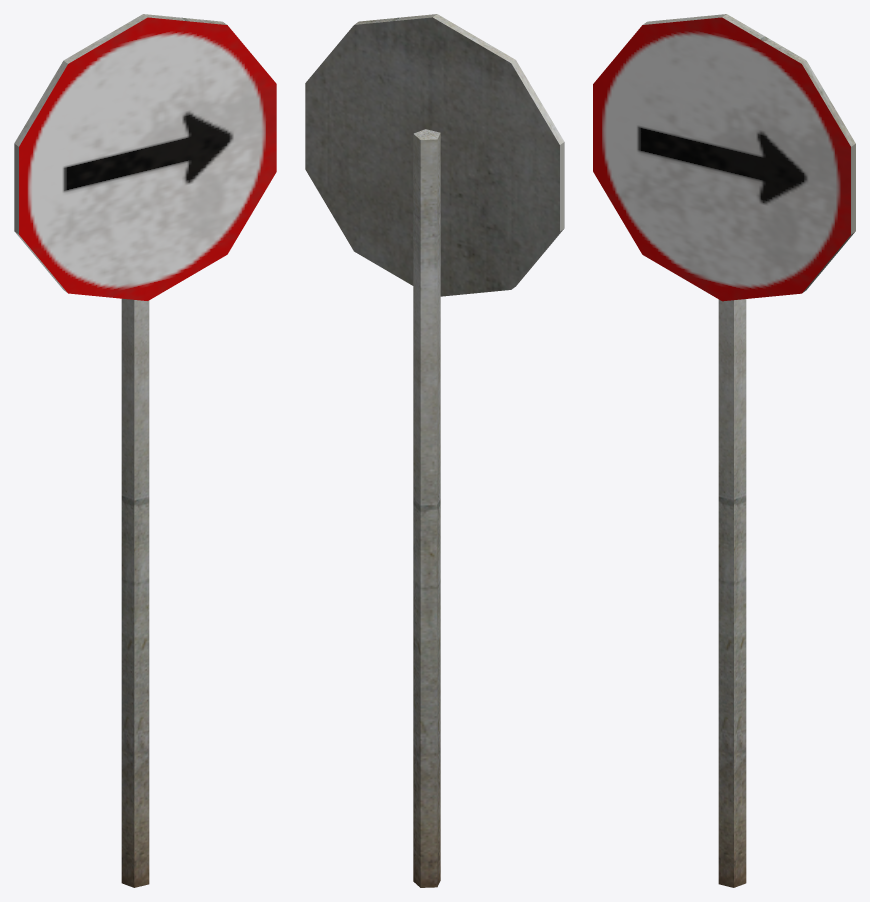
Rendered from round_right.fbx.
The picture shows the model from 3 angles, left to right: view 1: azimuth 30°, elevation 25°; view 2: azimuth 150°, elevation 25°; view 3: azimuth 330°, elevation 25°; orthographic projection.
Parts seen in each view (by area): view 1: Circle.002; view 2: Circle.002; view 3: Circle.002.
Part boxes in pixels (box(x1,y1,x2,y2)): Circle.002: box(14, 14, 276, 887); Circle.002: box(305, 14, 564, 887); Circle.002: box(593, 14, 855, 887).
Size of the model in its own units: 153 by 493 by 18.33.
